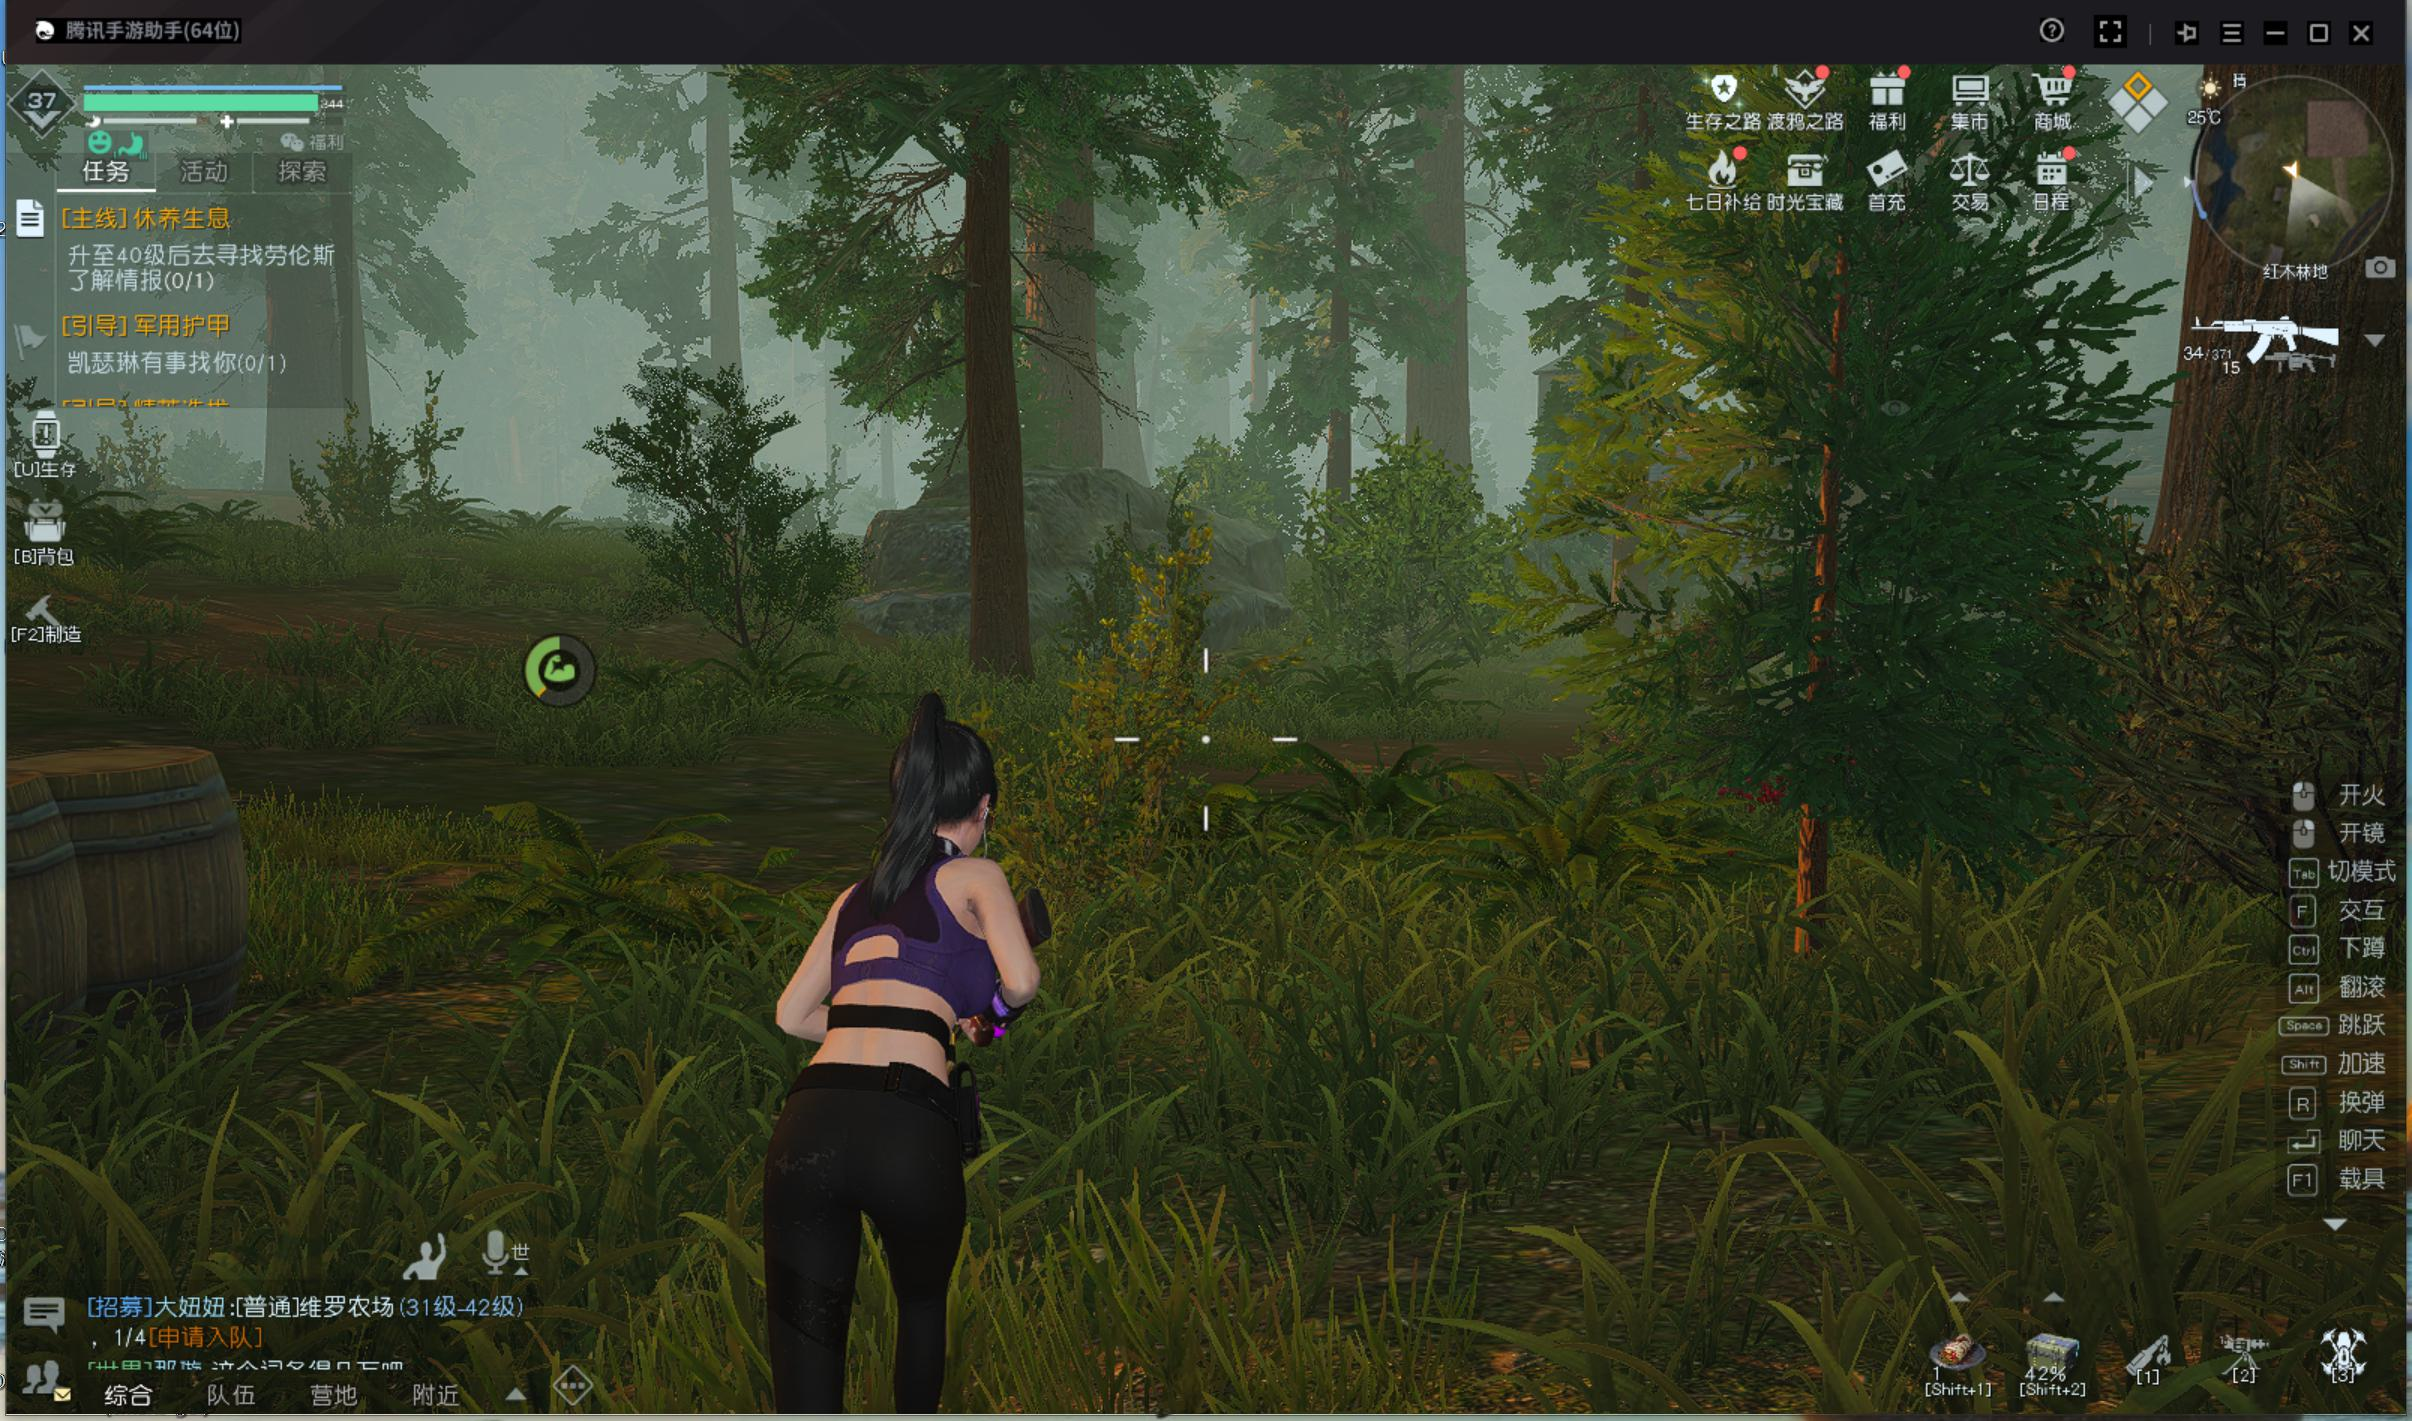tree: (952, 184, 1050, 717)
